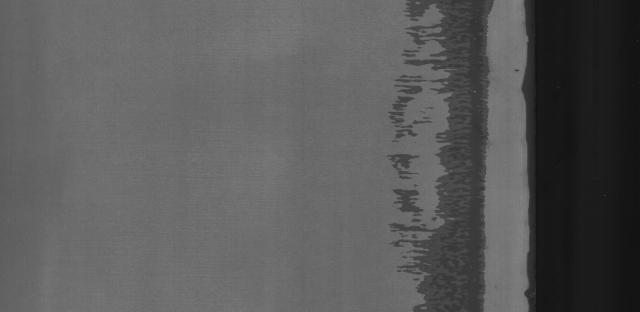oil_spot: (384, 2, 496, 312)
